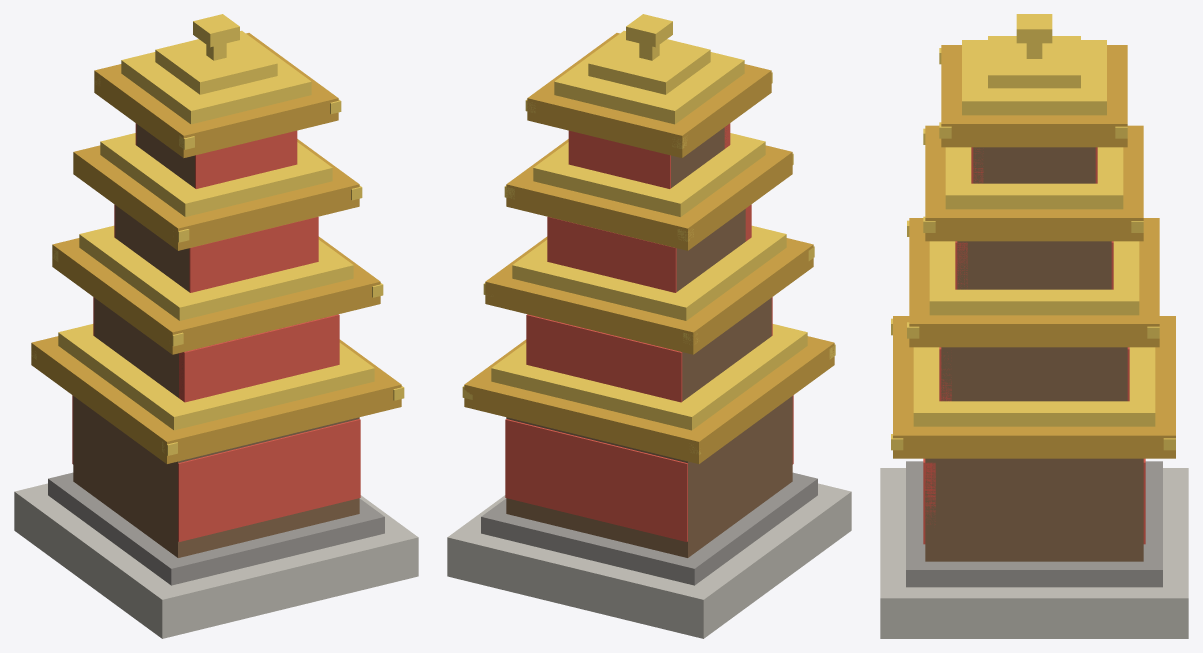
Rendered from voxel-jinan-pagoda.gltf.
3 views of the same model, side by side, from view 1: azimuth 30°, elevation 25°; view 2: azimuth 150°, elevation 25°; view 3: azimuth 270°, elevation 25° (orthographic). The views are drawn at different scales.
Bounding box in the file's own units: 2.4 × 4.74 × 2.4.
